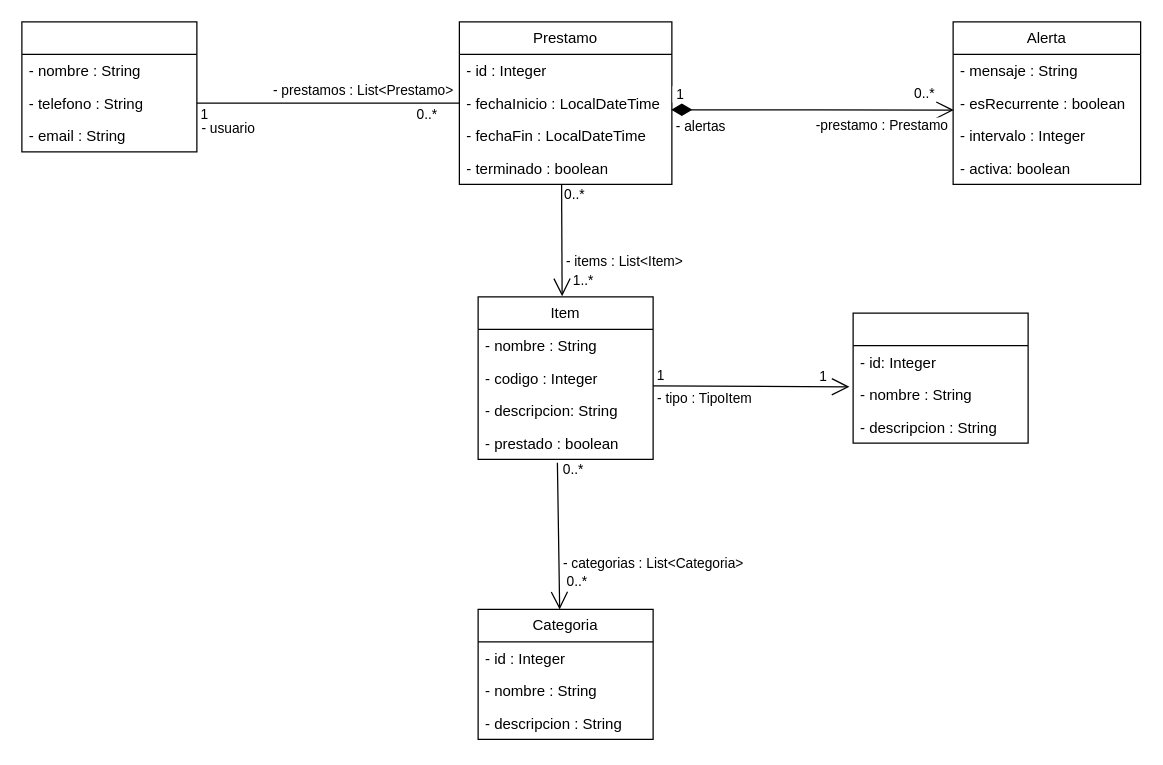
The diagram is 1163 pixels wide and 765 high, and some of its shapes have lost their labels. The box of each missing label's shape, as (x1, y1, x2, y2) in pixels:
TipoItem: (852, 312, 1028, 443)
Usuario: (21, 21, 197, 152)
